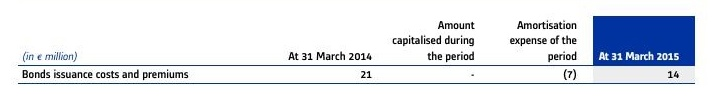table: (0, 0, 712, 106)
